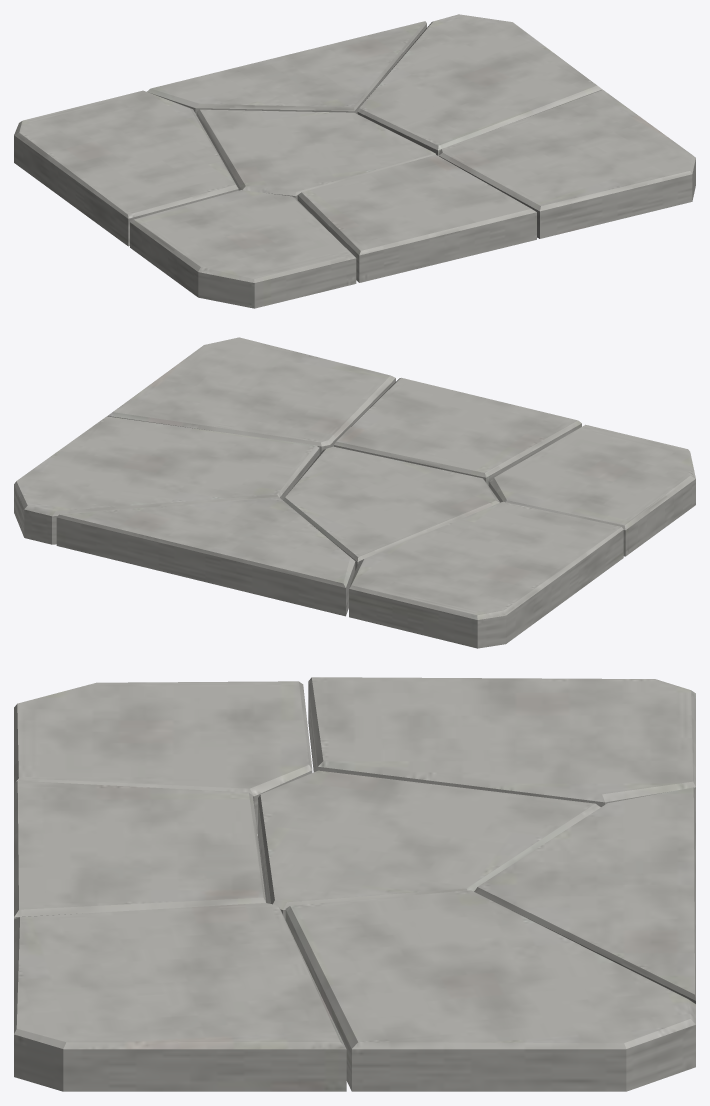
File: BR17_cracked_floor_slab_v1.glb
The picture shows the model from 3 angles, top to bottom: view 1: azimuth 30°, elevation 25°; view 2: azimuth 150°, elevation 25°; view 3: azimuth 270°, elevation 25°; orthographic projection. The views are drawn at different scales.
Visible parts, largest first — view 1: Fractured_slab_00; view 2: Fractured_slab_00; view 3: Fractured_slab_00.
Boxes of the visible parts, x1,y1,x2,y2 form: Fractured_slab_00: (14, 14, 695, 308); Fractured_slab_00: (14, 337, 695, 648); Fractured_slab_00: (14, 677, 695, 1091).
Size of the model in its own units: 3 by 0.18 by 2.35.
2 materials, 2 textured.
